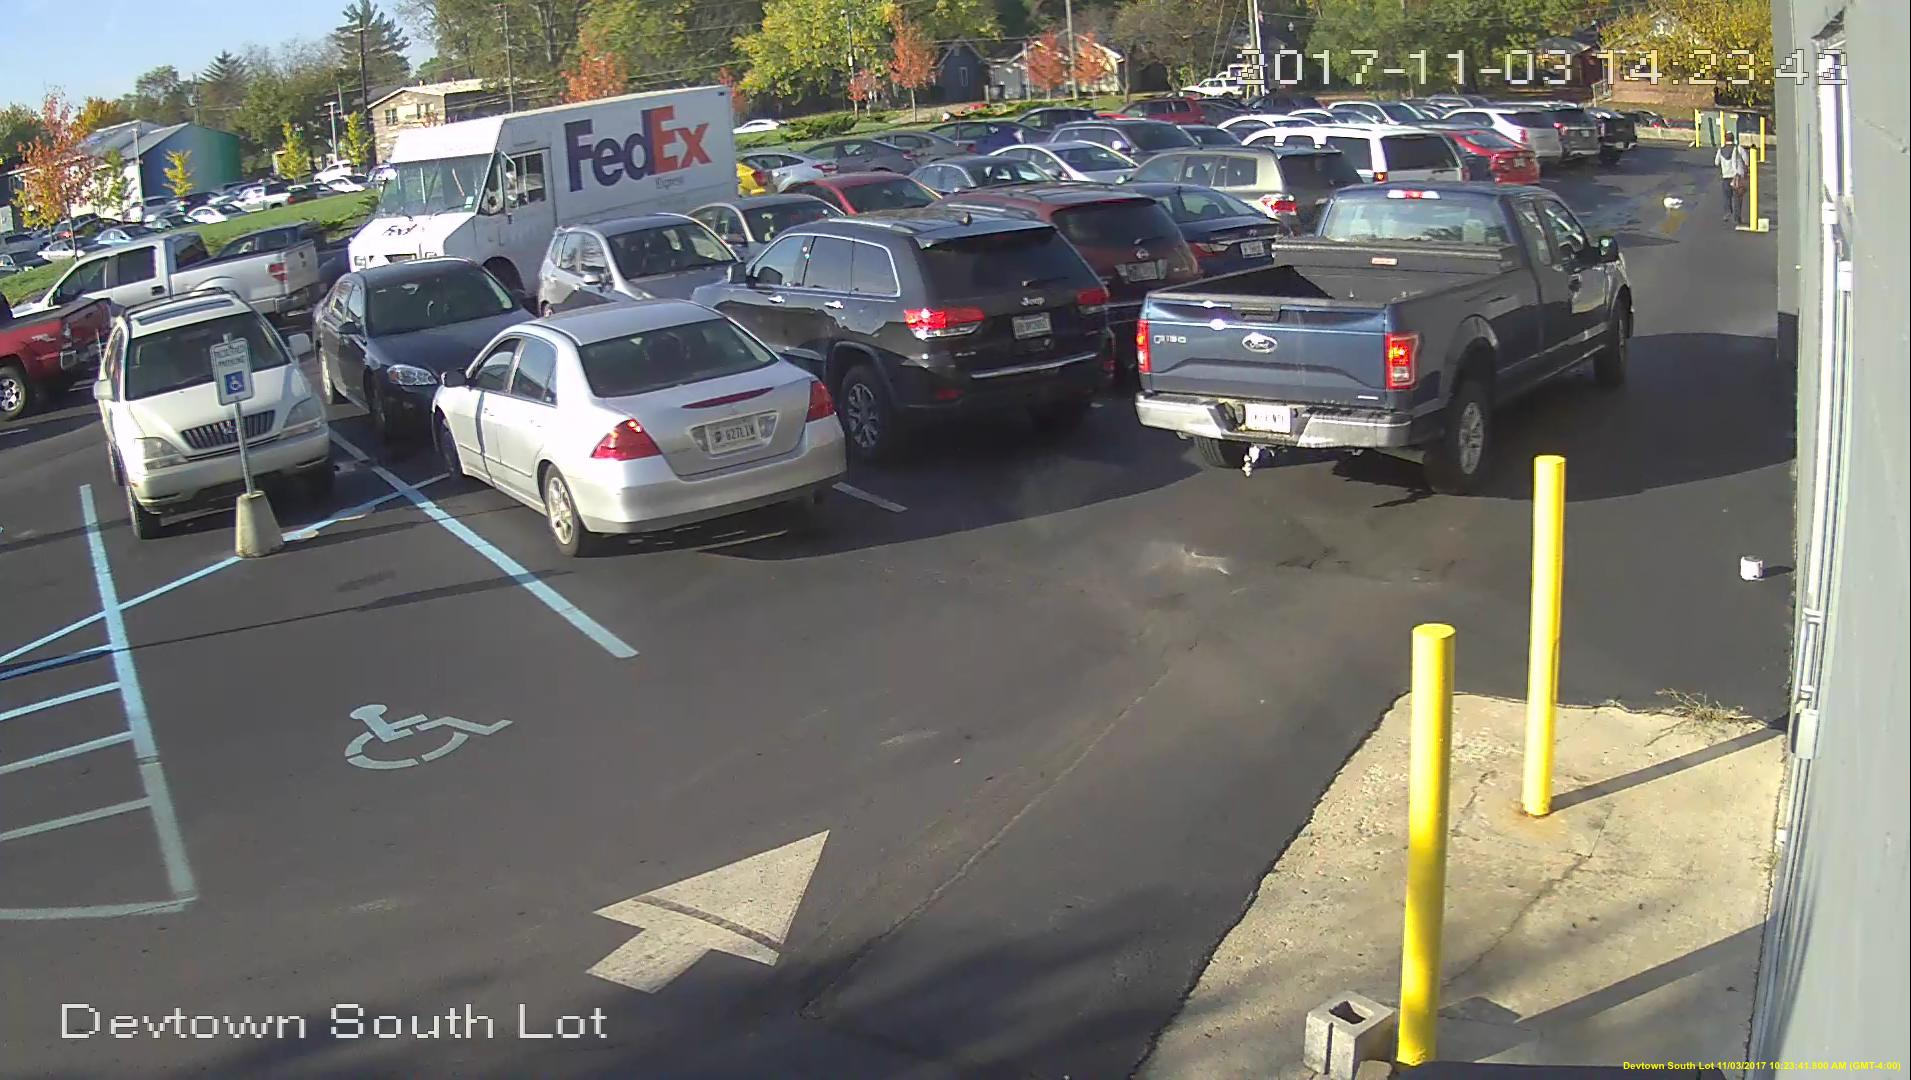fedex_truck: (346, 81, 739, 297)
